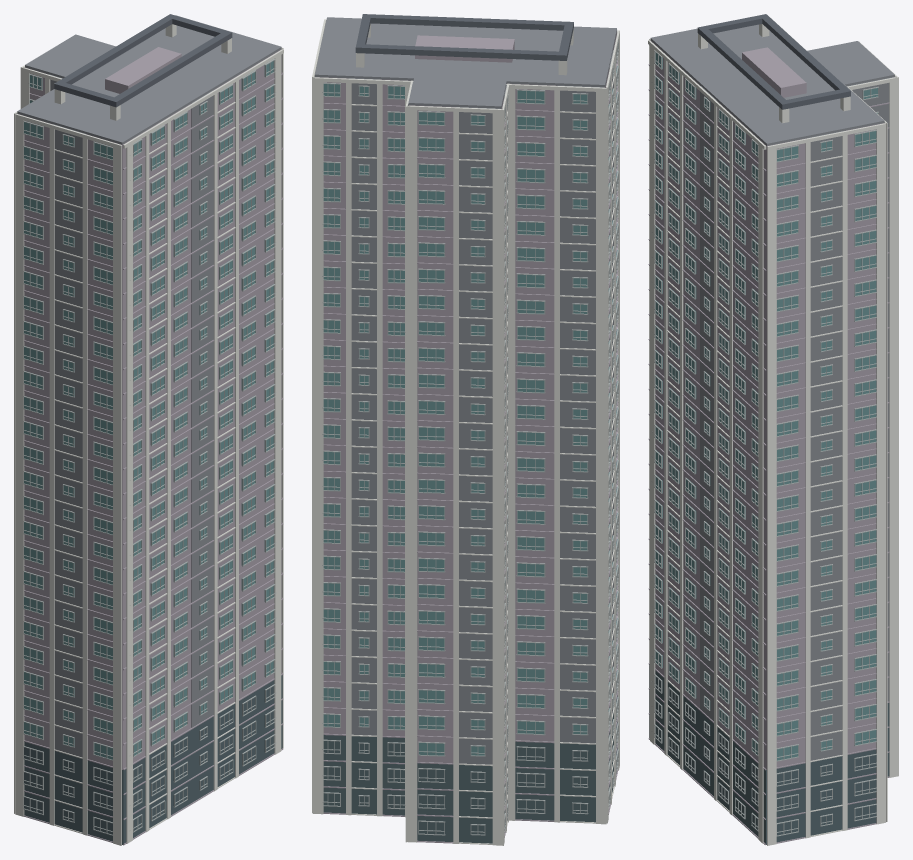
Rendered from bespoke-shinbanpo-xi-101.glb.
The picture shows the model from 3 angles, left to right: view 1: azimuth 30°, elevation 25°; view 2: azimuth 150°, elevation 25°; view 3: azimuth 270°, elevation 25°; orthographic projection. The views are drawn at different scales.
Parts seen in each view (by area): view 1: SBX101_editable_SBX101_lavender_grey_metallic_panels002, SBX101_editable_SBX101_white_vertical_frame002, SBX101_editable_SBX101_grey_inset_service_walls002, SBX101_editable_SBX101_thin_grey_window_mullions002, SBX101_editable_SBX101_pale_teal_glazing002, SBX101_editable_SBX101_dark_glazed_base002, SBX101_editable_SBX101_broad_charcoal_roof_caps002; view 2: SBX101_editable_SBX101_white_vertical_frame002, SBX101_editable_SBX101_grey_inset_service_walls002, SBX101_editable_SBX101_lavender_grey_metallic_panels002, SBX101_editable_SBX101_pale_teal_glazing002, SBX101_editable_SBX101_thin_grey_window_mullions002, SBX101_editable_SBX101_dark_glazed_base002, SBX101_editable_SBX101_broad_charcoal_roof_caps002; view 3: SBX101_editable_SBX101_lavender_grey_metallic_panels002, SBX101_editable_SBX101_white_vertical_frame002, SBX101_editable_SBX101_grey_inset_service_walls002, SBX101_editable_SBX101_thin_grey_window_mullions002, SBX101_editable_SBX101_pale_teal_glazing002, SBX101_editable_SBX101_dark_glazed_base002, SBX101_editable_SBX101_broad_charcoal_roof_caps002.
Boxes of the visible parts, bbox=[...] form: SBX101_editable_SBX101_lavender_grey_metallic_panels002: bbox=[17, 47, 283, 845]; SBX101_editable_SBX101_white_vertical_frame002: bbox=[14, 24, 283, 845]; SBX101_editable_SBX101_grey_inset_service_walls002: bbox=[17, 15, 281, 757]; SBX101_editable_SBX101_thin_grey_window_mullions002: bbox=[23, 59, 275, 835]; SBX101_editable_SBX101_pale_teal_glazing002: bbox=[24, 61, 273, 759]; SBX101_editable_SBX101_dark_glazed_base002: bbox=[24, 675, 282, 844]; SBX101_editable_SBX101_broad_charcoal_roof_caps002: bbox=[54, 14, 232, 107]; SBX101_editable_SBX101_white_vertical_frame002: bbox=[312, 19, 619, 845]; SBX101_editable_SBX101_grey_inset_service_walls002: bbox=[315, 17, 616, 764]; SBX101_editable_SBX101_lavender_grey_metallic_panels002: bbox=[315, 32, 618, 843]; SBX101_editable_SBX101_pale_teal_glazing002: bbox=[323, 66, 617, 755]; SBX101_editable_SBX101_thin_grey_window_mullions002: bbox=[322, 40, 618, 835]; SBX101_editable_SBX101_dark_glazed_base002: bbox=[323, 695, 617, 843]; SBX101_editable_SBX101_broad_charcoal_roof_caps002: bbox=[355, 14, 573, 60]; SBX101_editable_SBX101_lavender_grey_metallic_panels002: bbox=[648, 40, 894, 844]; SBX101_editable_SBX101_white_vertical_frame002: bbox=[648, 17, 898, 845]; SBX101_editable_SBX101_grey_inset_service_walls002: bbox=[650, 24, 894, 760]; SBX101_editable_SBX101_thin_grey_window_mullions002: bbox=[651, 50, 878, 836]; SBX101_editable_SBX101_pale_teal_glazing002: bbox=[655, 53, 877, 760]; SBX101_editable_SBX101_dark_glazed_base002: bbox=[649, 665, 889, 844]; SBX101_editable_SBX101_broad_charcoal_roof_caps002: bbox=[697, 14, 850, 109].
Size of the model in its own units: 32.13 by 82.25 by 25.98.
